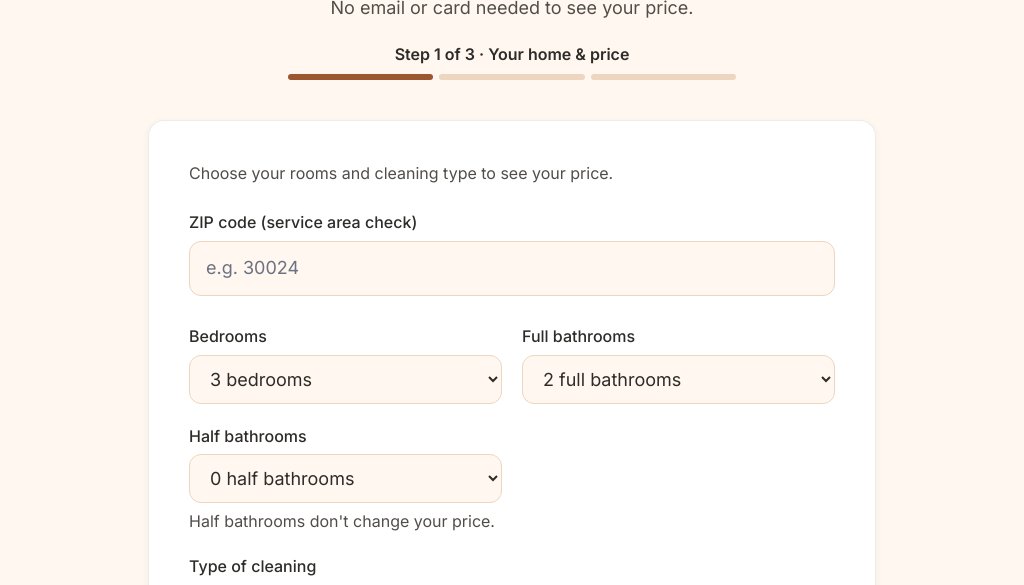
Scenario: booking price confirmation › shows one unified regular total for the confirmed scenario
Type "30024" into the field labelled "ZIP code (service area check)".
click(512, 268); type("30024")  # box [189,241,835,296]
(page scrolled)
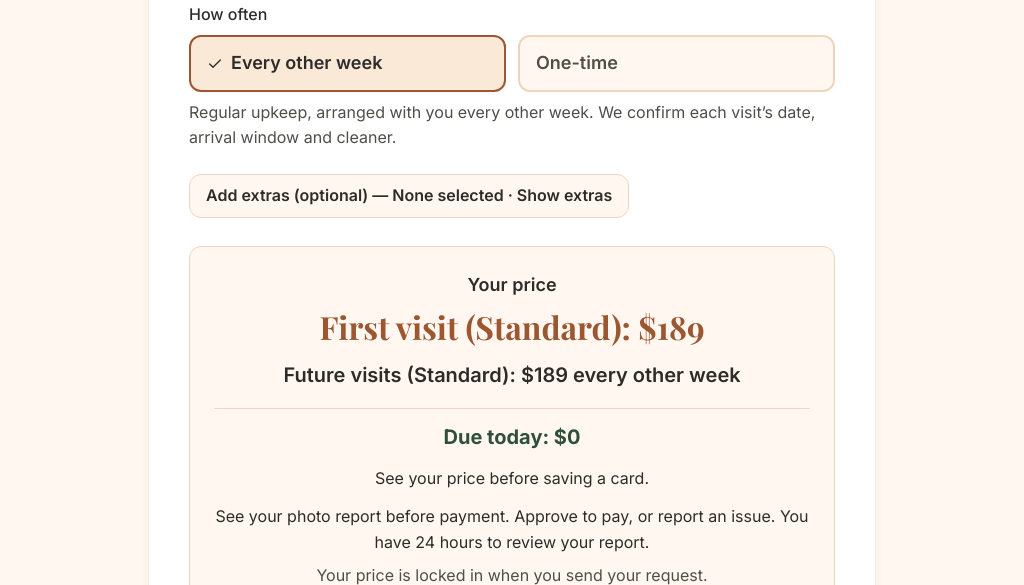
Extras start collapsed.
Click the button "Add extras (optional) — None selected · Show extras".
click(409, 196)  # box [189,174,629,218]
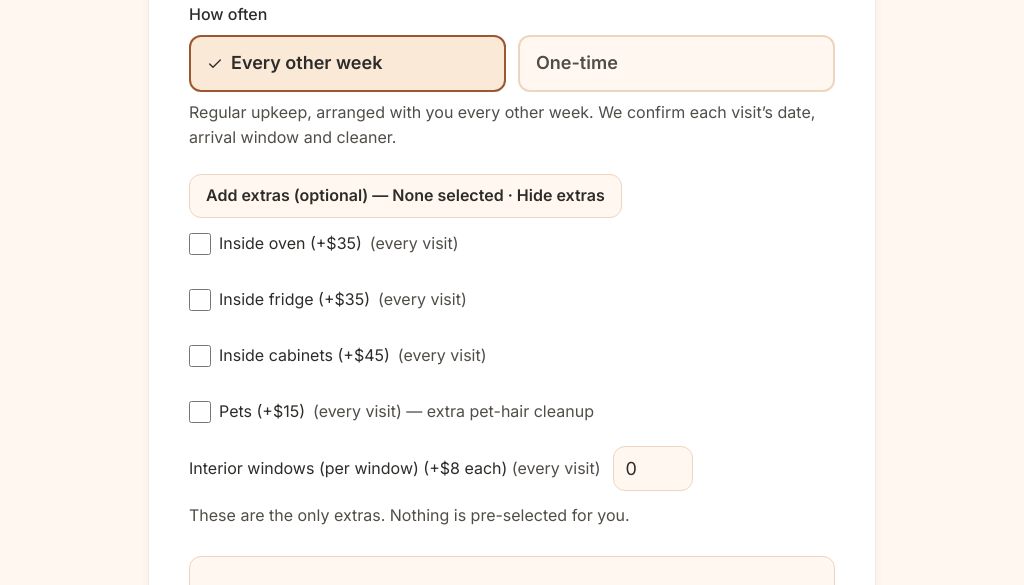
Click the checkbox labelled "Inside oven (+$35) (every visit)".
click(200, 244)  # box [189,232,211,254]
(page scrolled)
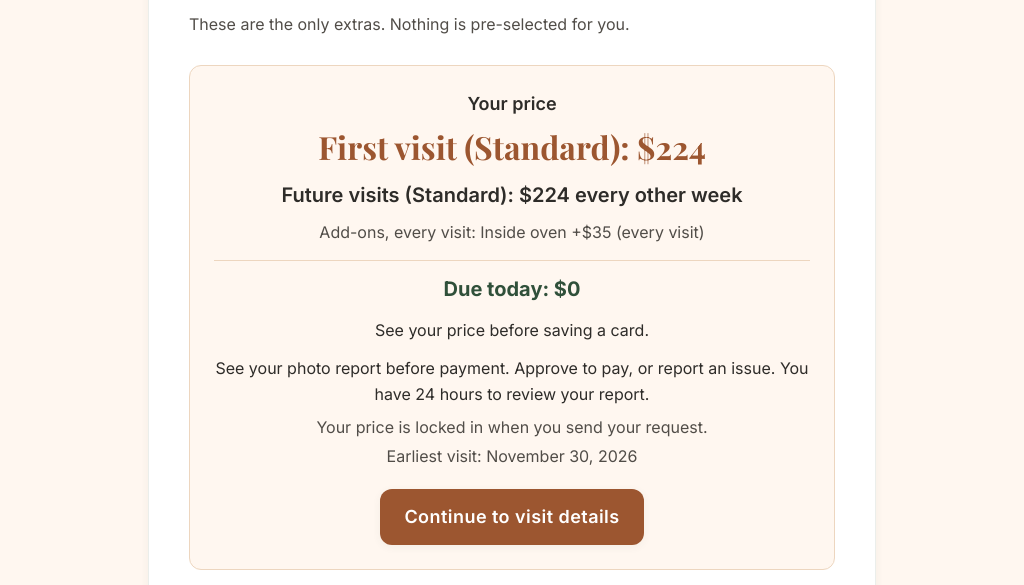
expect the text "First visit (Standard): $224" is shown: met, box [318,127,706,167]
expect the text "Future visits (Standard): $224 every other week" is shown: met, box [282,179,743,212]
